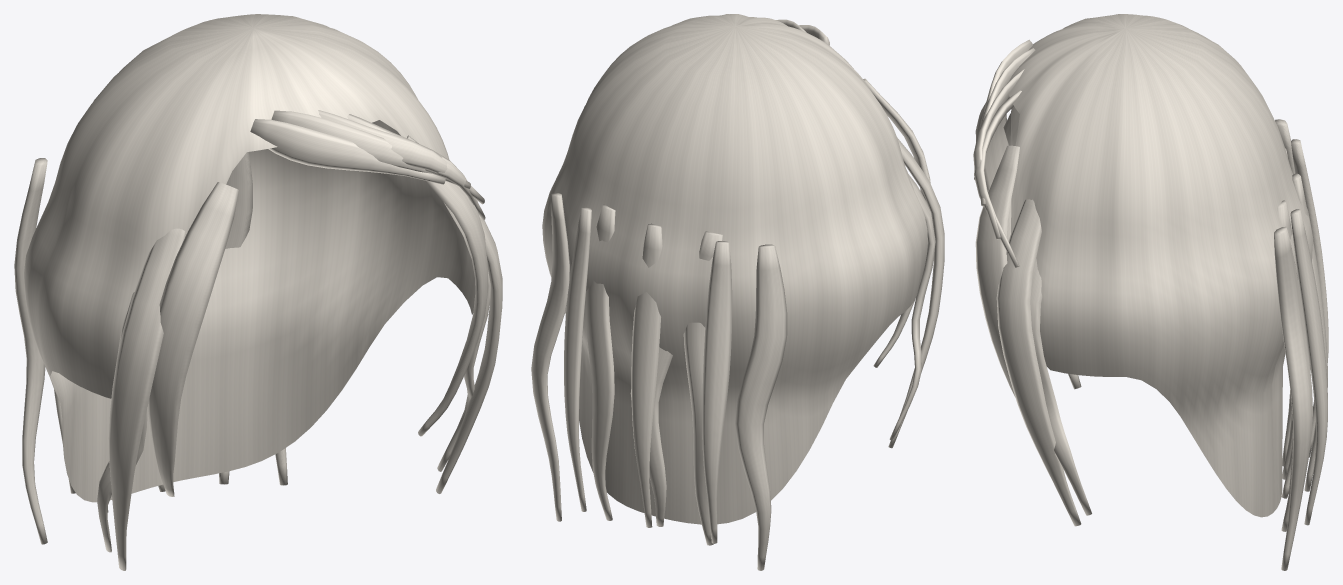
3 views of the same model, side by side, from view 1: azimuth 30°, elevation 25°; view 2: azimuth 150°, elevation 25°; view 3: azimuth 270°, elevation 25° (orthographic). The views are drawn at different scales.
Parts seen in each view (by area): view 1: Portrait hair p5; view 2: Portrait hair p5; view 3: Portrait hair p5.
Part boxes in pixels (<box>): Portrait hair p5: <box>14,14,502,570</box>; Portrait hair p5: <box>531,14,944,570</box>; Portrait hair p5: <box>973,14,1328,570</box>.
Size of the model in its own units: 1.11 by 1.44 by 0.9453.
Materials: 1 (1 with a texture image).
